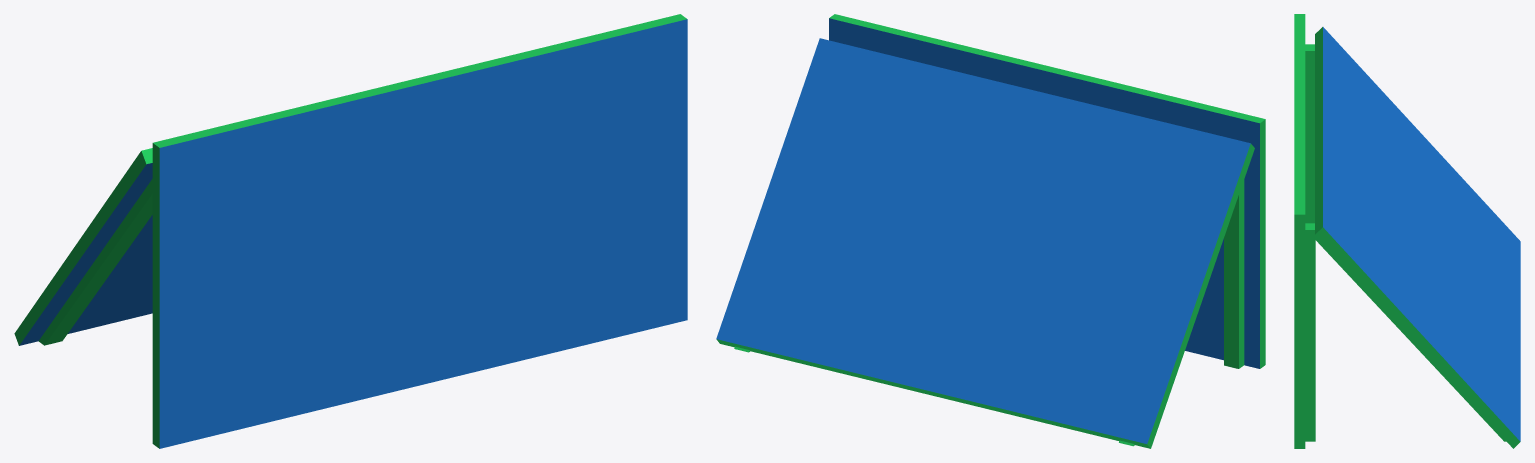
Rendered from SM_plywood_fence_17.fbx.
3 renders of one model, left to right at view 1: azimuth 30°, elevation 25°; view 2: azimuth 150°, elevation 25°; view 3: azimuth 270°, elevation 25°, orthographic. The views are drawn at different scales.
Parts seen in each view (by area): view 1: Cube_3; view 2: Cube_3; view 3: Cube_3.
Part boxes in pixels (x1,y1,x2,y2): Cube_3: [14, 14, 687, 448]; Cube_3: [716, 14, 1265, 448]; Cube_3: [1294, 14, 1520, 448].
Size of the model in its own units: 150 by 81.74 by 71.47.
